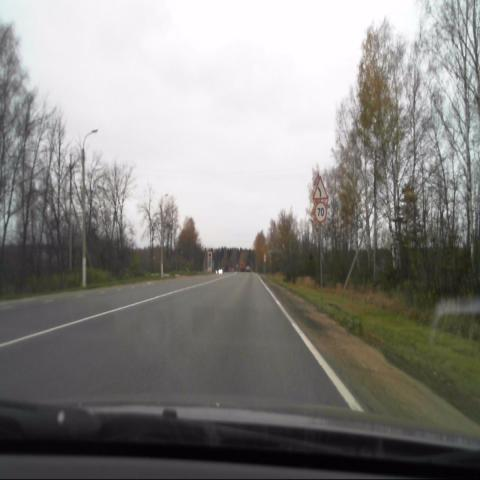1_11_1: (313, 175, 327, 200)
